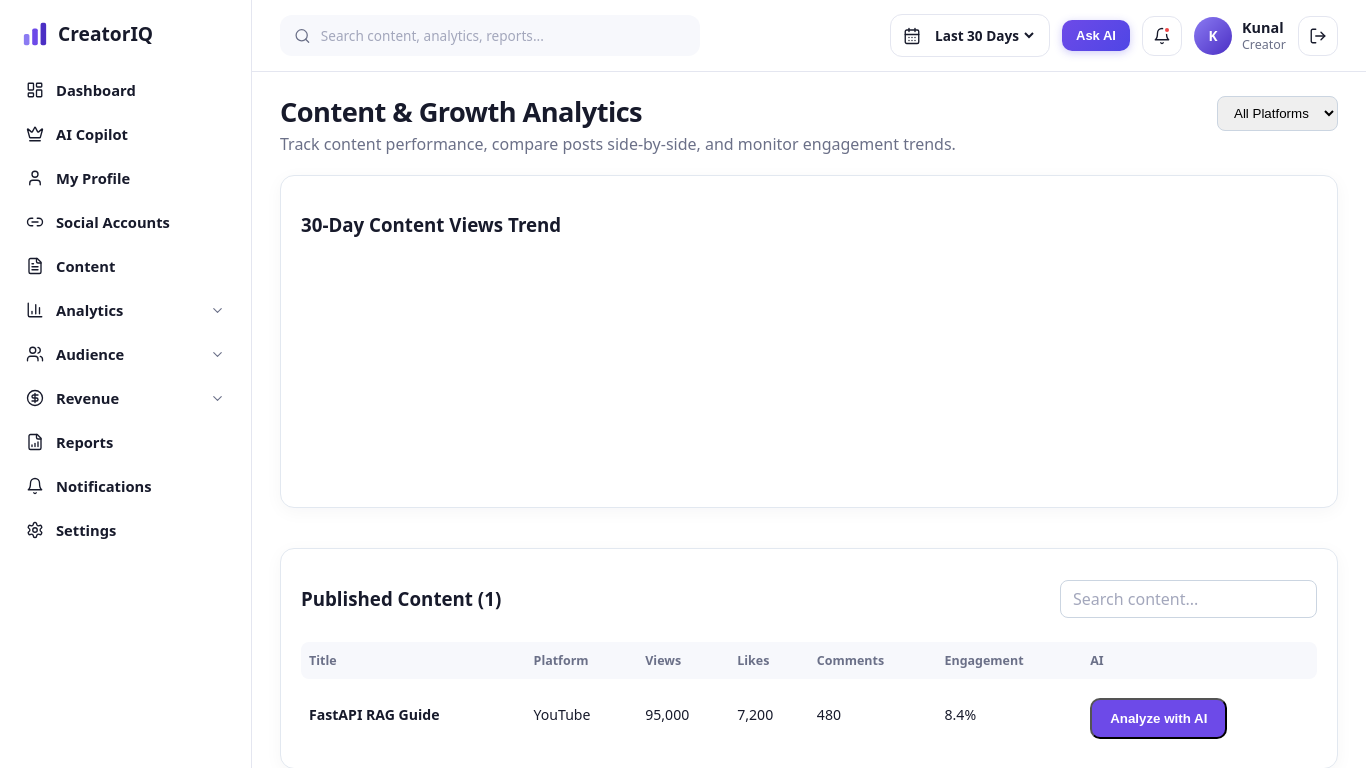
Scenario: Embedded AI & UI Integration (TDD RED) › analyzes a post with RAG from ContentAnalytics page
Click the button "Analyze with AI": (1159,718) x1=1090 y1=698 x2=1228 y2=739
(page scrolled)
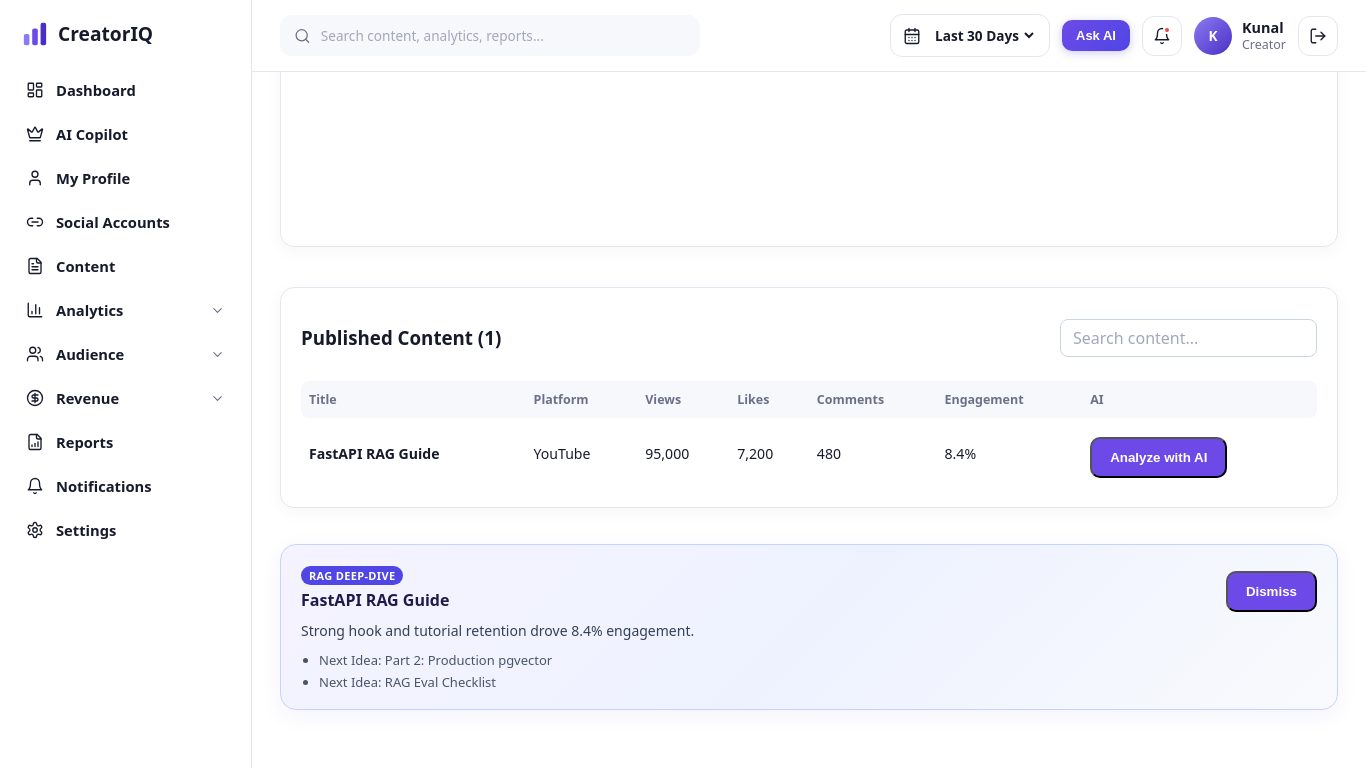
expect the text "Strong hook and tutorial retention drove 8.4% engagement." is shown: met, box x1=301 y1=621 x2=694 y2=640
